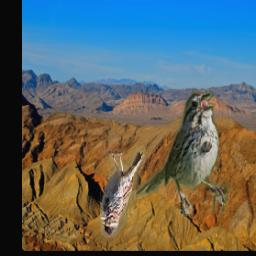Sparrow: (136, 90, 229, 216), (100, 146, 146, 238)
